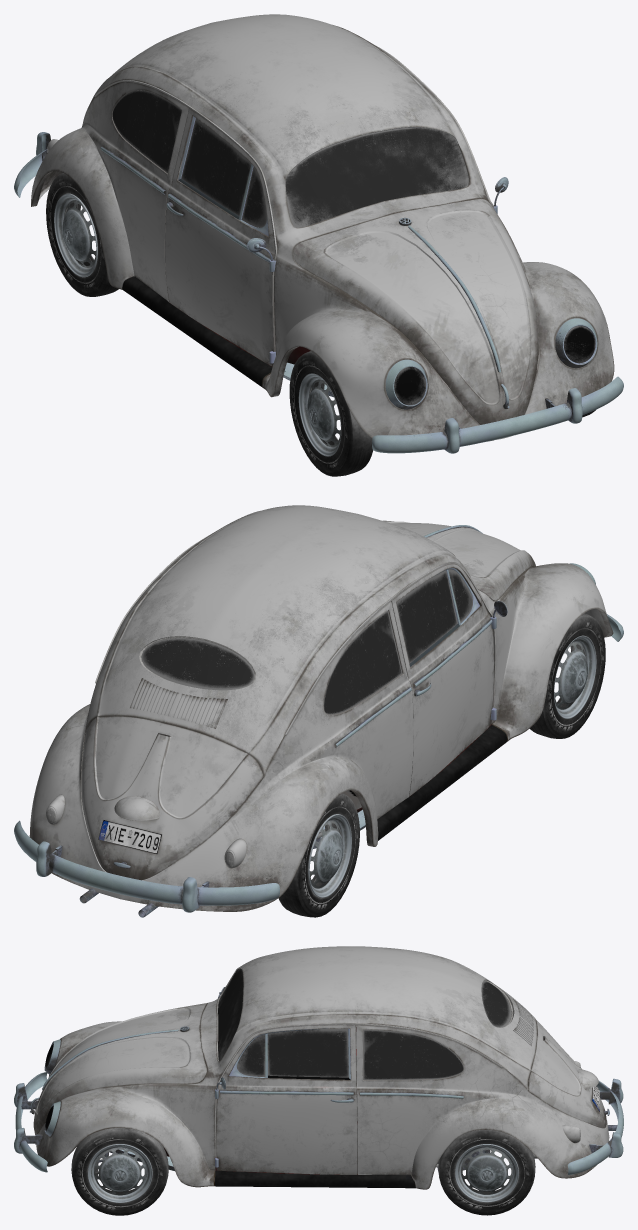
File: Volks.fbx
The picture shows the model from 3 angles, top to bottom: view 1: azimuth 30°, elevation 25°; view 2: azimuth 150°, elevation 25°; view 3: azimuth 270°, elevation 25°; orthographic projection. The views are drawn at different scales.
Parts seen in each view (by area): view 1: car2:Mesh_car2:Mesh_1002; view 2: car2:Mesh_car2:Mesh_1002; view 3: car2:Mesh_car2:Mesh_1002.
Boxes of the visible parts, <box> form: car2:Mesh_car2:Mesh_1002: <box>14,14,623,476</box>; car2:Mesh_car2:Mesh_1002: <box>14,505,623,917</box>; car2:Mesh_car2:Mesh_1002: <box>14,946,623,1215</box>.
Bounding box in the file's own units: 77.24 × 75.11 × 200.
